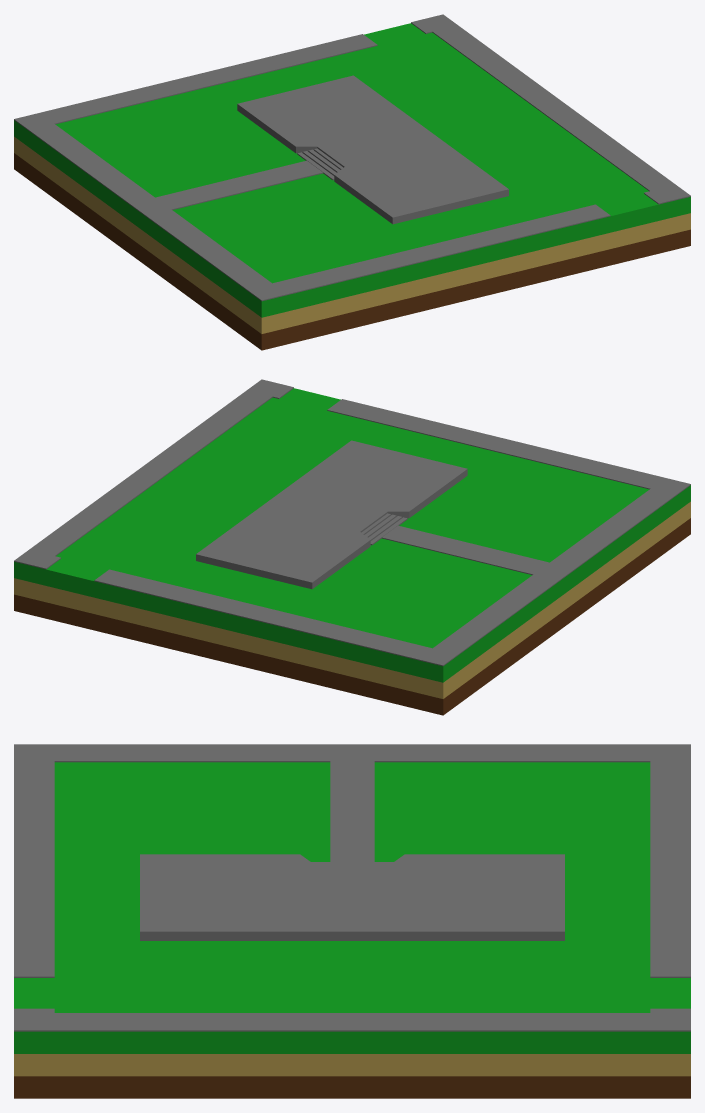
File: Cajica-Station-HitBox.glb
3 views of the same model, one above another, from view 1: azimuth 30°, elevation 25°; view 2: azimuth 150°, elevation 25°; view 3: azimuth 270°, elevation 25° (orthographic). The views are drawn at different scales.
Parts seen in each view (by area): view 1: Plane.005, Plane.004, Cube.309; view 2: Plane.005, Plane.004, Cube.309; view 3: Plane.005, Plane.004, Cube.309.
Part boxes in pixels (x1,y1,x2,y2): Plane.005: [14, 23, 690, 350]; Plane.004: [14, 14, 690, 301]; Cube.309: [237, 75, 508, 224]; Plane.005: [14, 388, 690, 715]; Plane.004: [14, 379, 690, 666]; Cube.309: [196, 440, 467, 589]; Plane.005: [14, 762, 690, 1098]; Plane.004: [14, 744, 690, 1031]; Cube.309: [140, 854, 564, 940].
Size of what is drawn, in the model's own units: 33.35 by 4.16 by 33.35.
